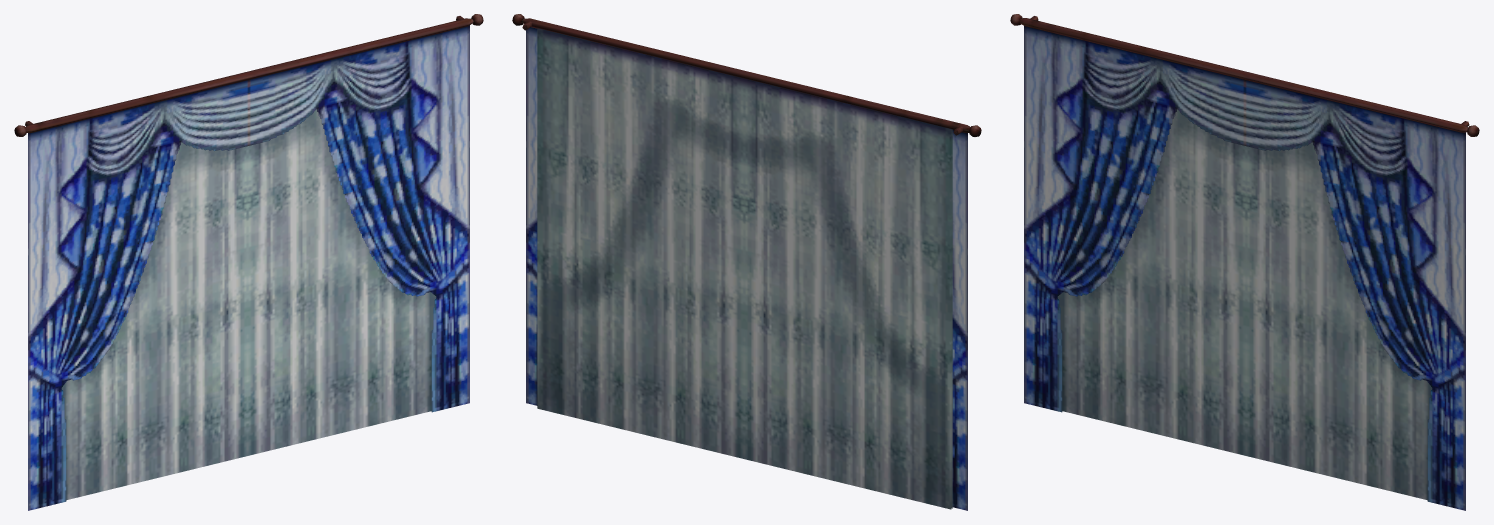
Rendered from furni_0201135_03.FBX.
The picture shows the model from 3 angles, left to right: view 1: azimuth 30°, elevation 25°; view 2: azimuth 150°, elevation 25°; view 3: azimuth 330°, elevation 25°; orthographic projection.
Visible parts, largest first — view 1: furni_0201135_03; view 2: furni_0201135_03; view 3: furni_0201135_03.
Part boxes in pixels (left/top/right/bottom): furni_0201135_03: left=14, top=14, right=483, bottom=510; furni_0201135_03: left=512, top=14, right=981, bottom=510; furni_0201135_03: left=1010, top=14, right=1479, bottom=510.
Bounding box in the file's own units: 353 × 279 × 12.24.
Materials: 2 (2 with a texture image).
